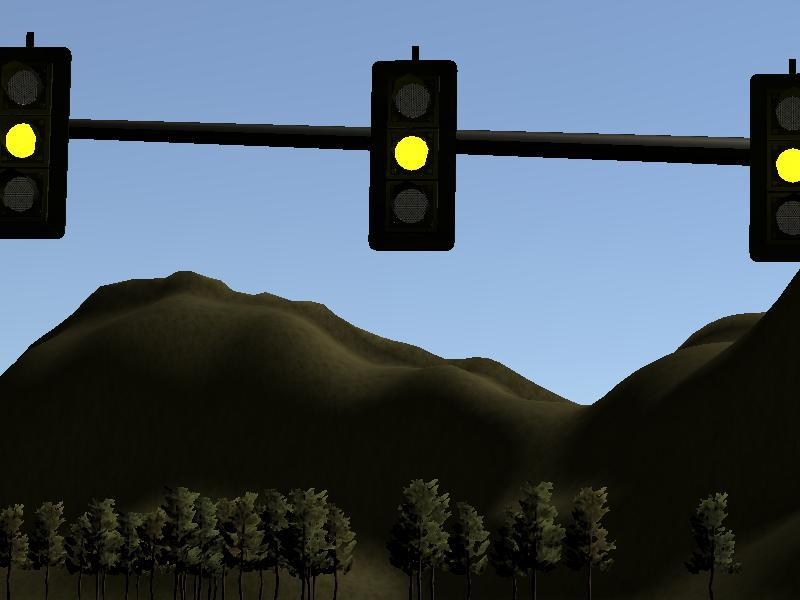Yellow: (369, 61, 457, 251), (1, 47, 71, 239), (748, 74, 800, 262)
